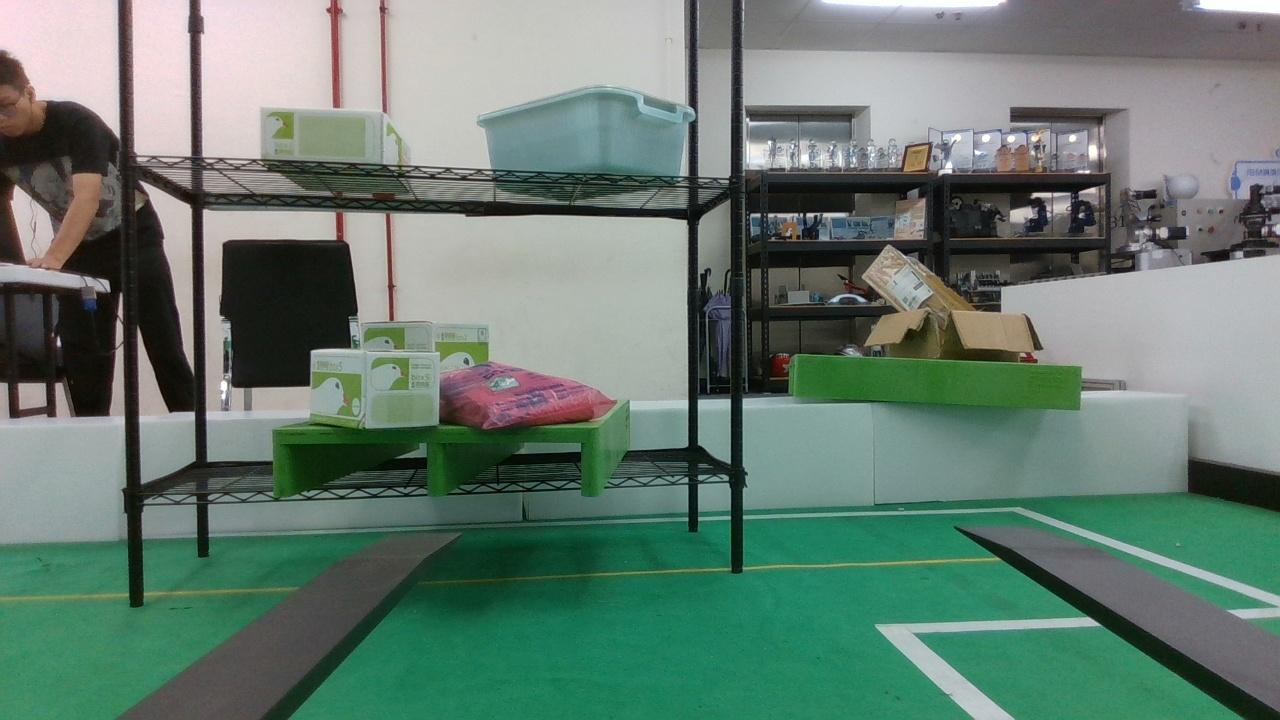Pallet: (271, 426, 603, 497)
